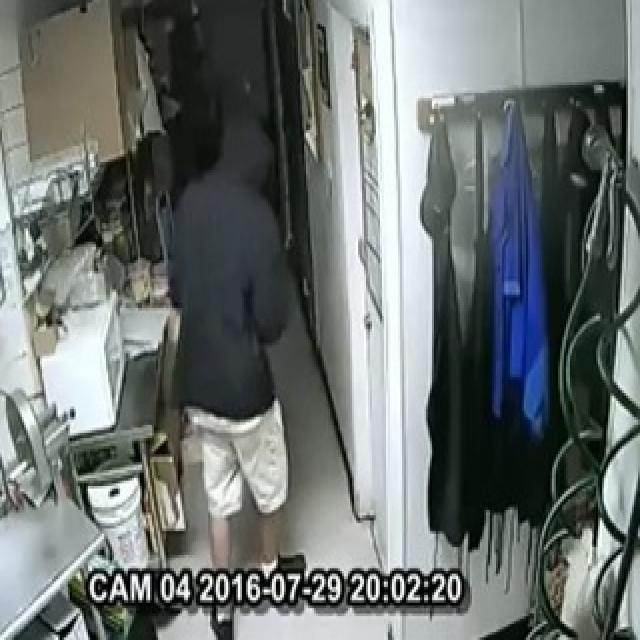thief: (144, 150, 330, 530)
